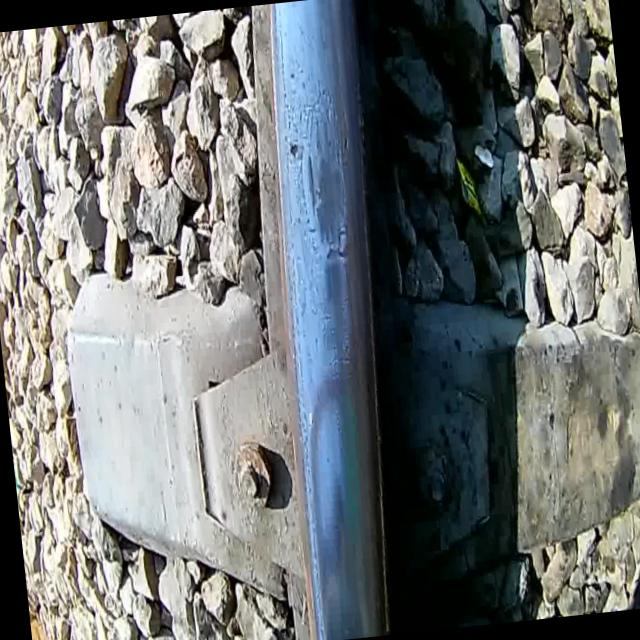Spallings: (284, 137, 302, 164)
Squats: (296, 81, 366, 272)
